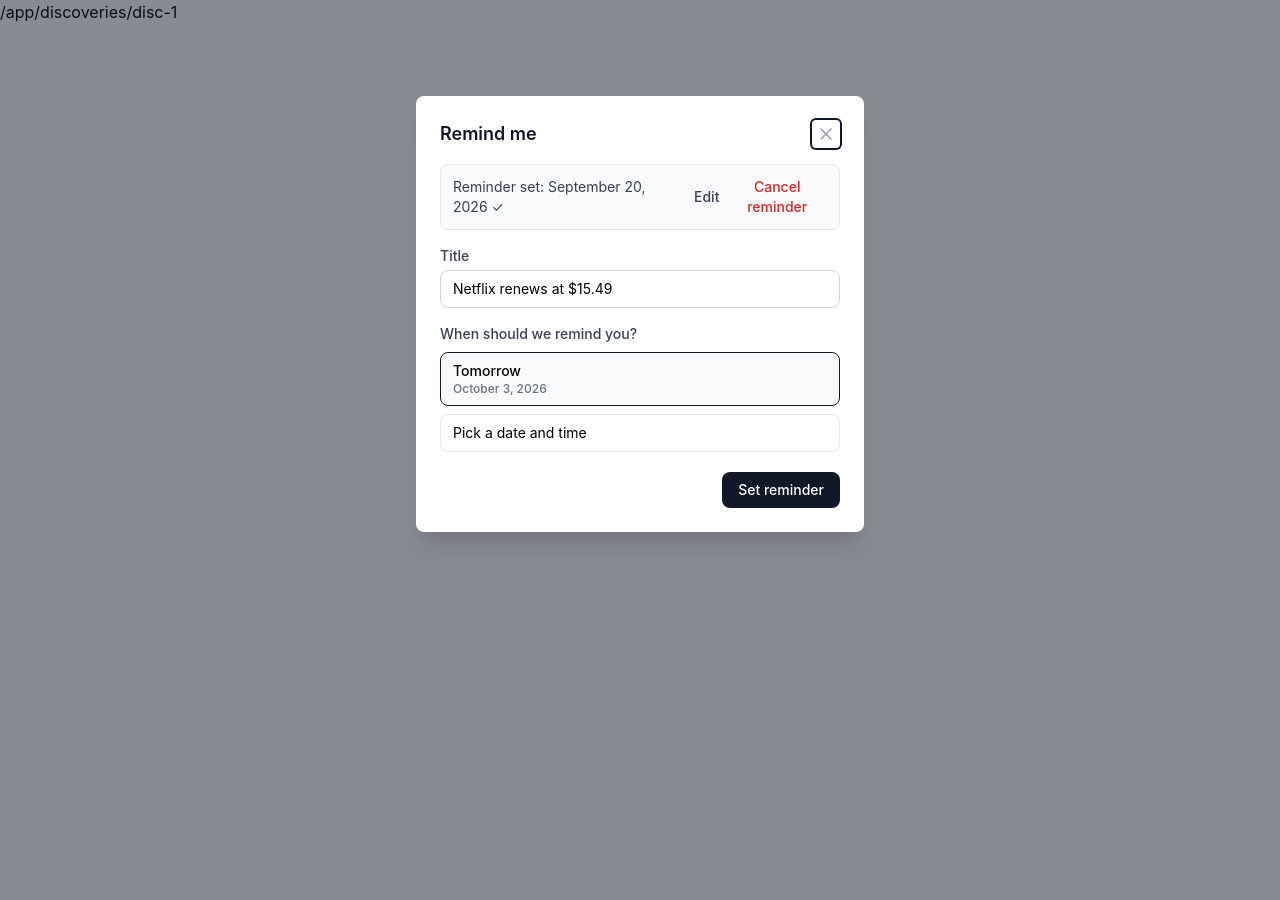
it: ReminderModal — Pro user › with an existing reminder › cancels through the ConfirmModal (DELETE) with a toast
Expected: the element with test id "existing-reminder" is shown, [440,164,840,230]
Click the button "Cancel reminder".
click(777, 197)  # box [727,177,827,217]
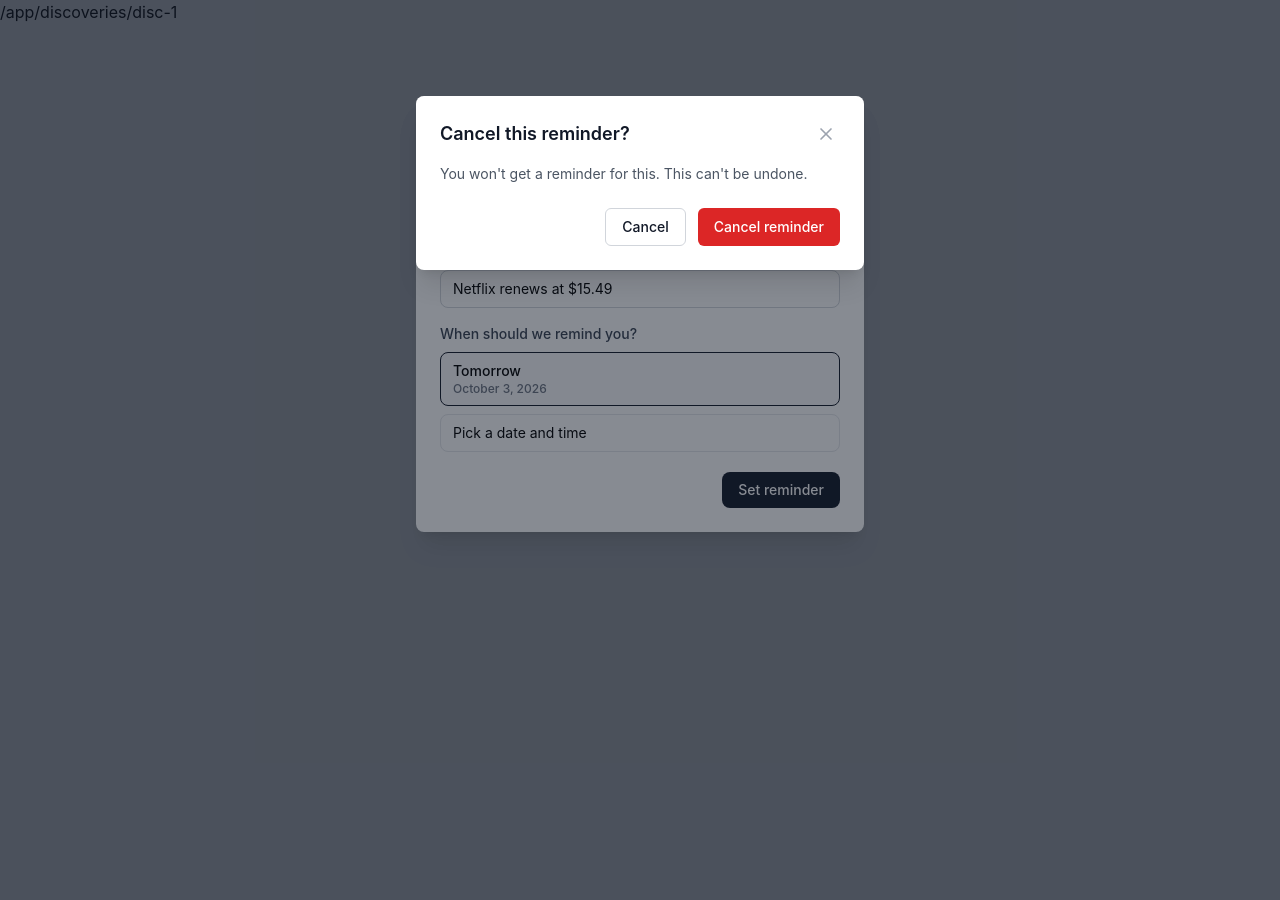
Result: the number of dialogs is 2 at [416,96,864,532]; [416,96,864,270]
Result: the text "You won't get a reminder for this. This can't be undone." is shown at [440,164,840,184]
Click the button "Cancel reminder".
click(769, 227)  # box [698,208,840,246]
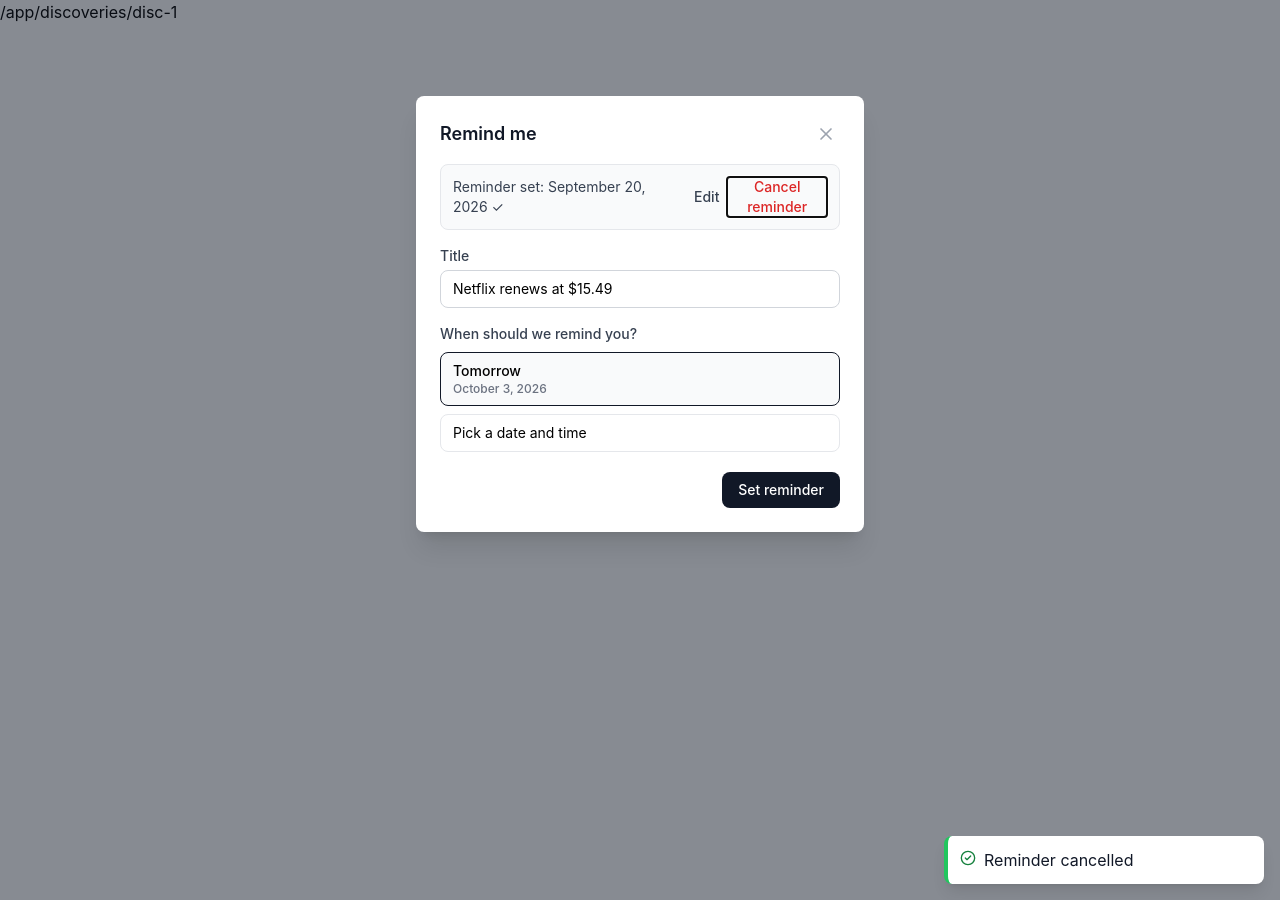
Result: the text "Reminder cancelled" is shown at [984,848,1134,872]
